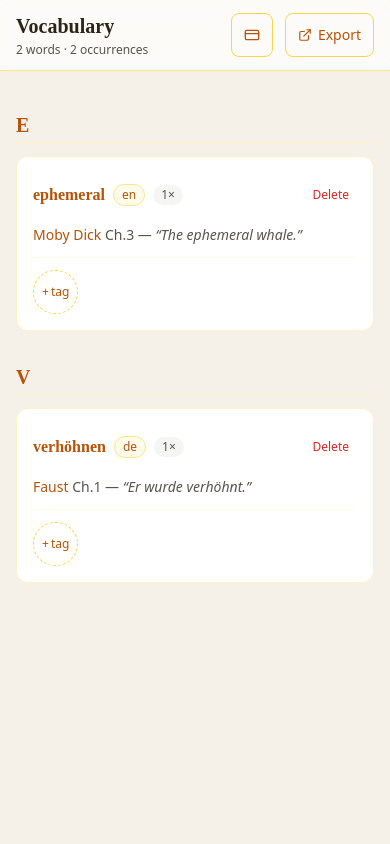
Cancel leaves the dialog without downloading
The width and height of the screenshot is (390, 844).
Check: the button "ephemeral" is shown, box [33,173,105,217]
What coordinates should you click on to do the following:
click the button with test id "export-all-btn"
I would click on:
 (329, 35)
Its box is [285,13,374,57].
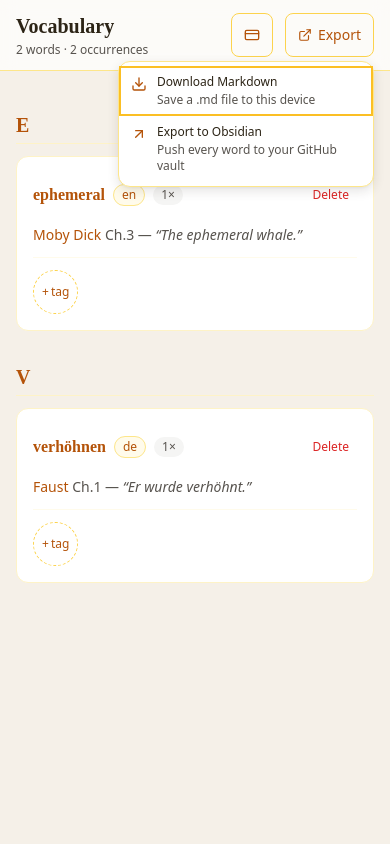
What coordinates should you click on to do the following:
click the menu item "Download Markdown Save a .md file to this device"
I would click on:
 (246, 91)
Its box is [119,66,373,116].
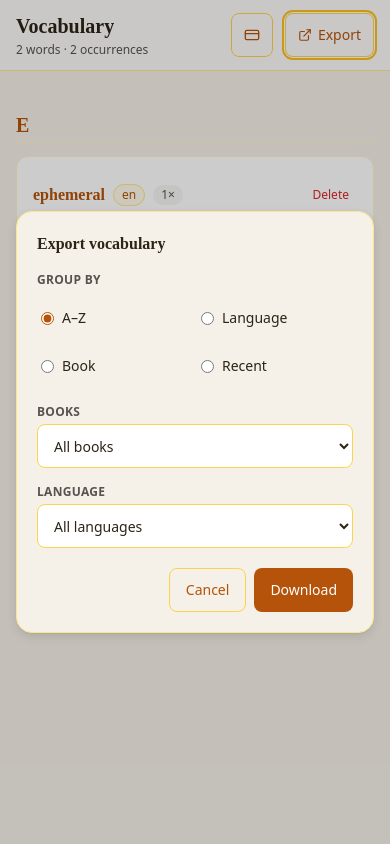
What coordinates should you click on to do the following:
click the button "Cancel"
I would click on:
 (208, 590)
Its box is [169,568,246,612].
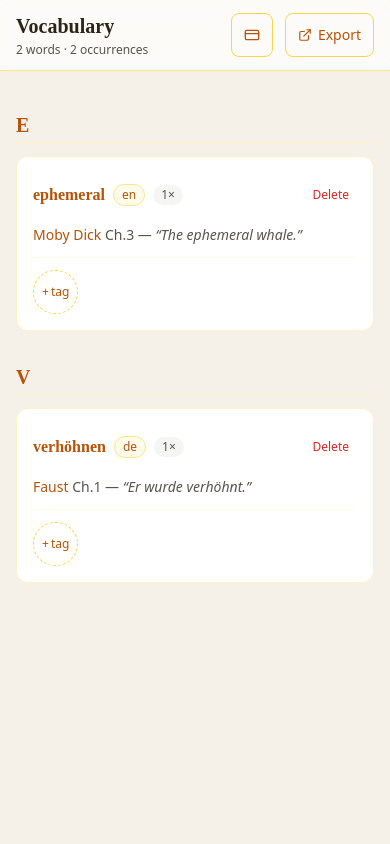
Check: the dialog is gone
